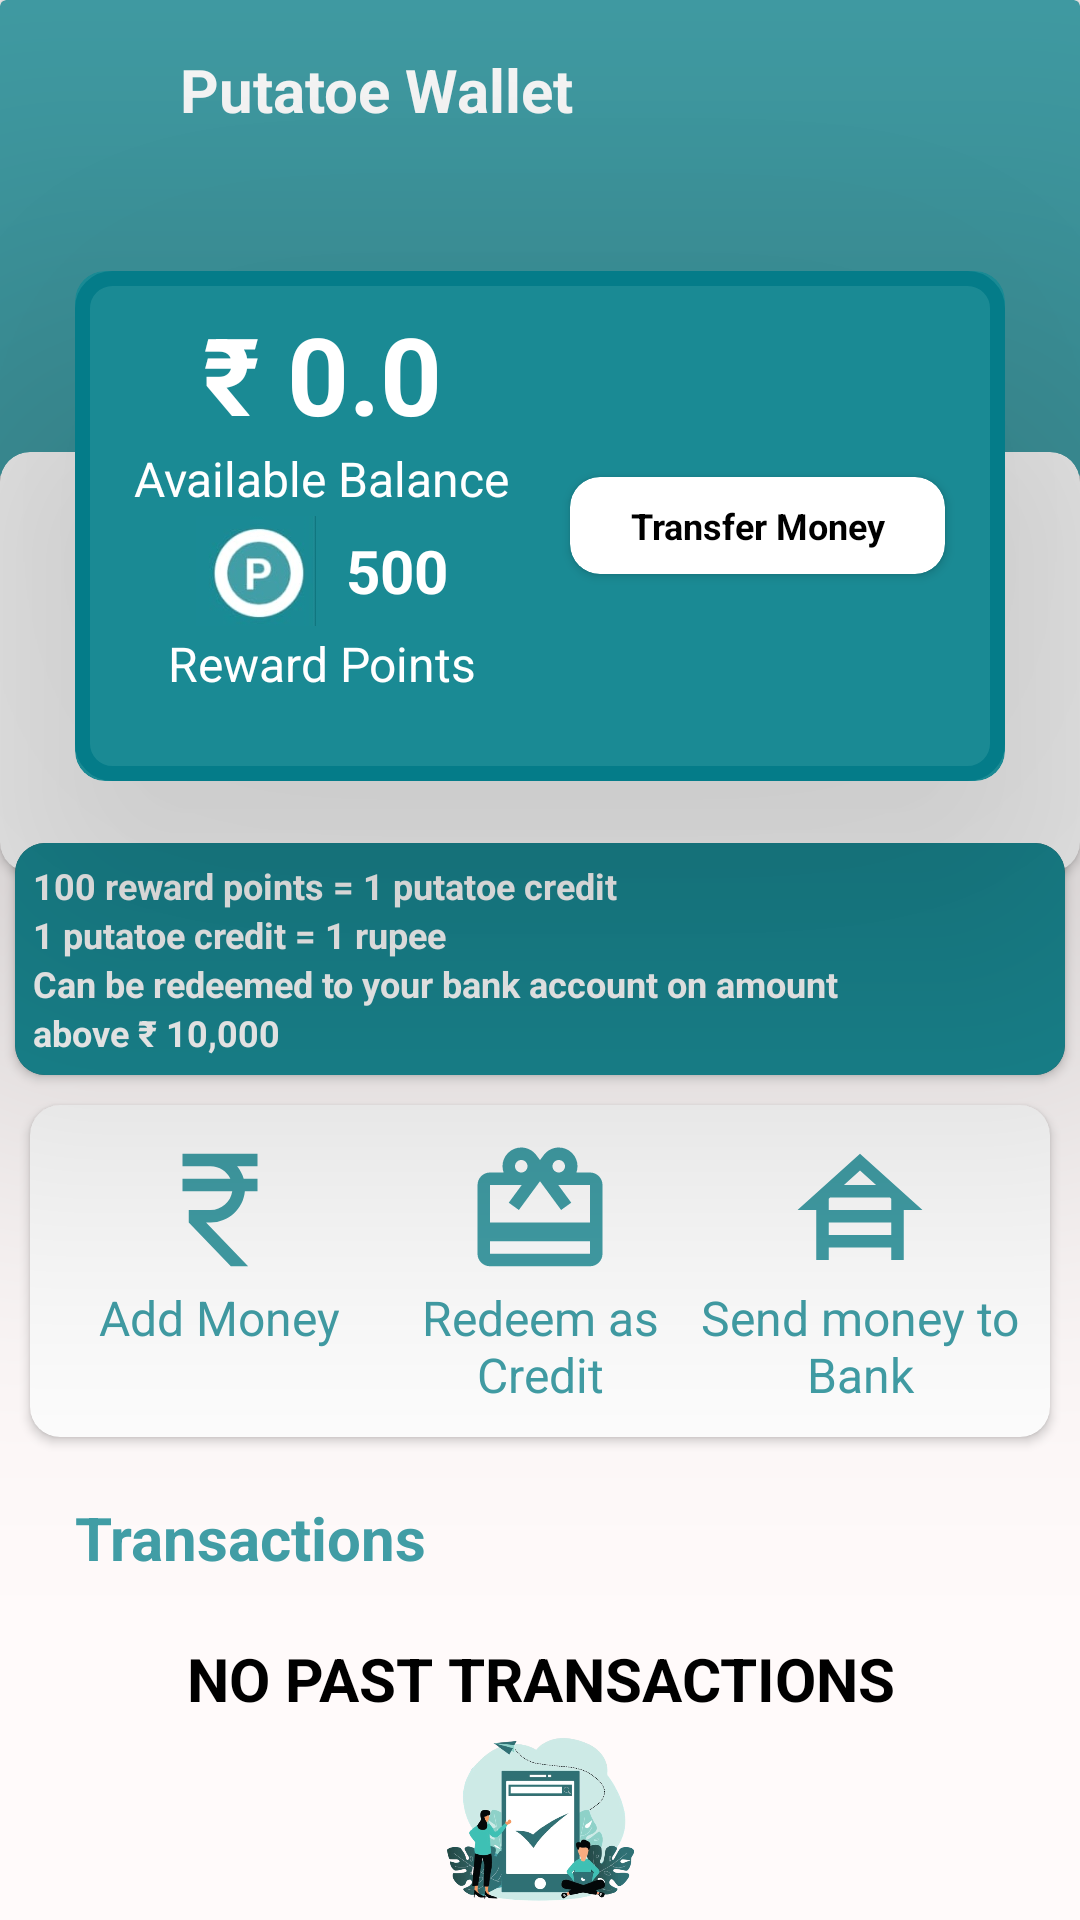

Icon click points for this 1080*1920 phone screenshot, format (x,y):
card giftcard: (540,1207)
currency rupee: (220,1210)
house siding: (860,1207)
